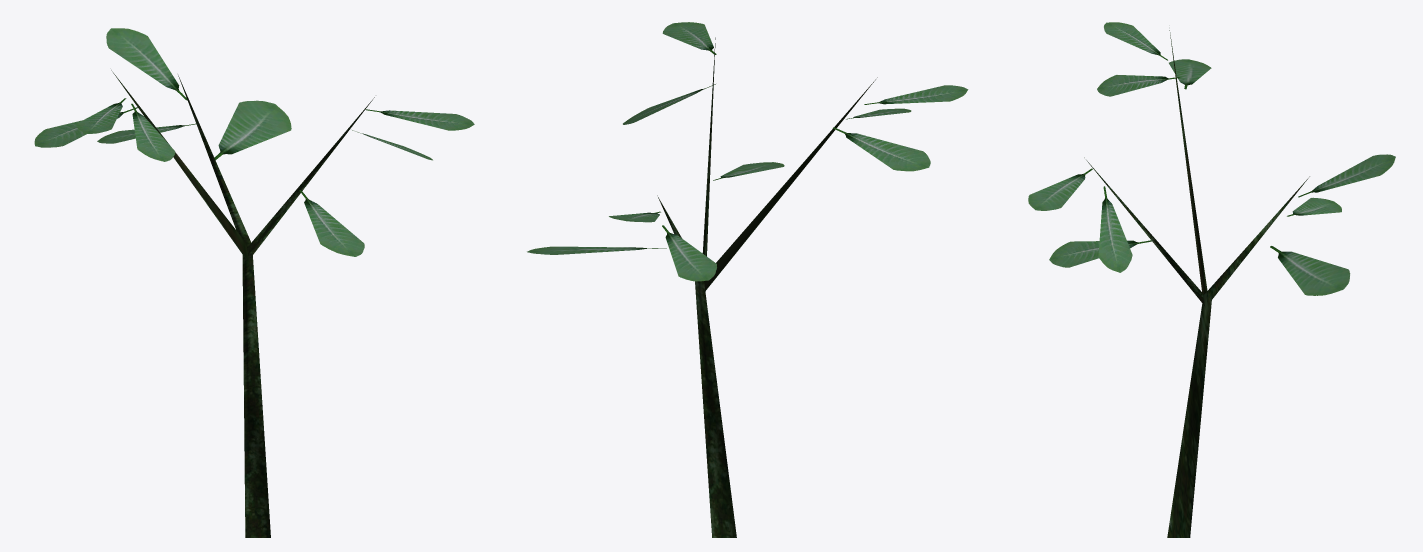
File: leaf_sapling_a1_l2.fbx
3 views of the same model, side by side, from view 1: azimuth 30°, elevation 25°; view 2: azimuth 150°, elevation 25°; view 3: azimuth 270°, elevation 25° (orthographic). The views are drawn at different scales.
Visible parts, largest first — view 1: mesh_node; view 2: mesh_node; view 3: mesh_node.
Part boxes in pixels (x1,y1,x2,y2): mesh_node: (34, 28, 474, 537); mesh_node: (527, 22, 968, 537); mesh_node: (1028, 22, 1395, 537).
Size of the model in its own units: 1.49 by 1.87 by 1.53.
Materials: 1 (1 with a texture image).
